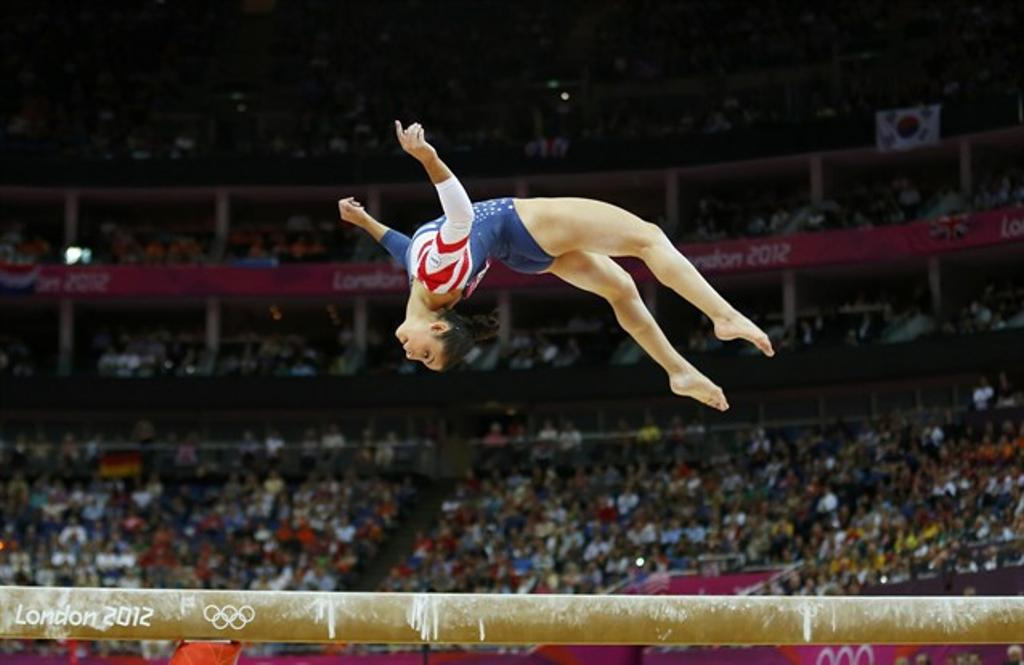face: (397, 329, 461, 373)
